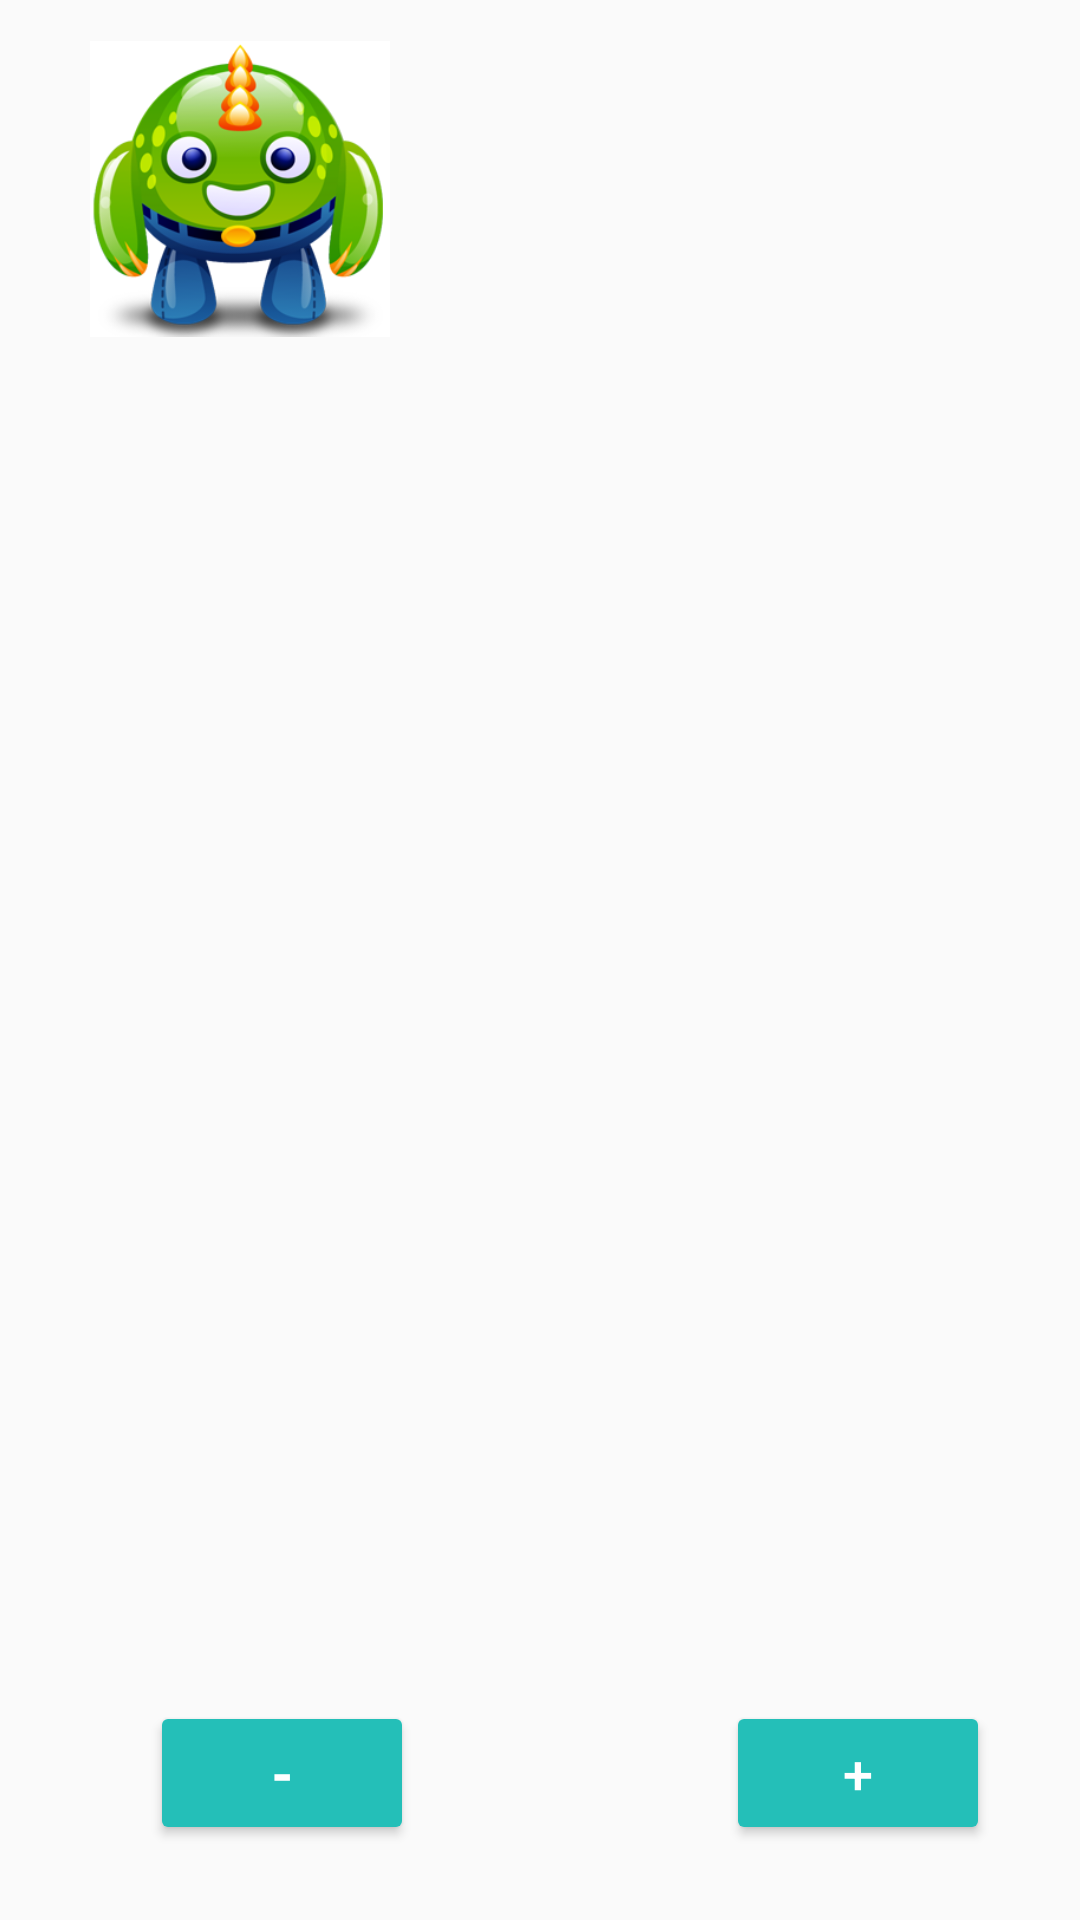

Named icons in this screenshot (1080x1920) and their bounding boxes, box(x1, y1, x2, y2):
monster: box(93, 44, 383, 337)
